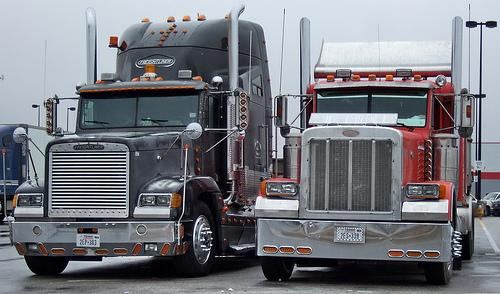truck: (8, 2, 268, 279), (253, 16, 478, 286)
